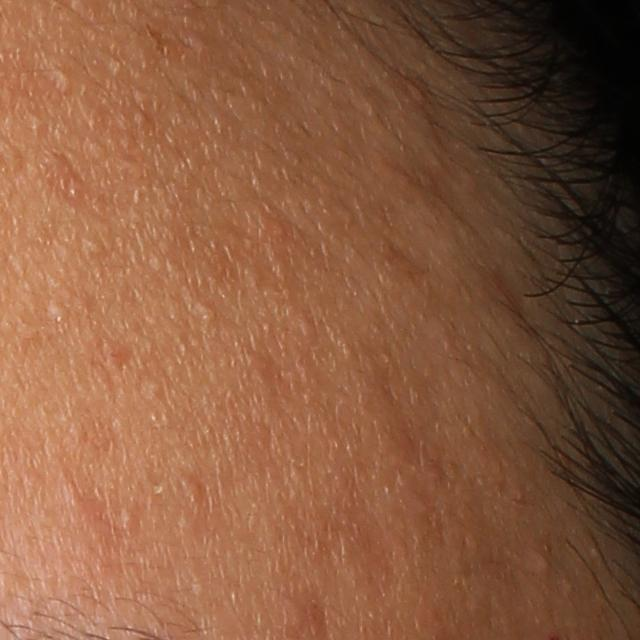comedo: (43, 299, 71, 324), (54, 63, 77, 91), (140, 378, 169, 400), (121, 506, 141, 533), (181, 479, 205, 500), (197, 304, 218, 323)
